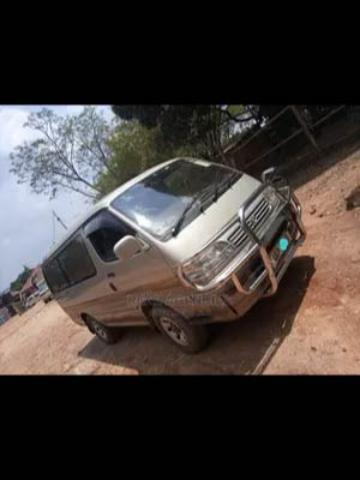van: (38, 155, 306, 353)
